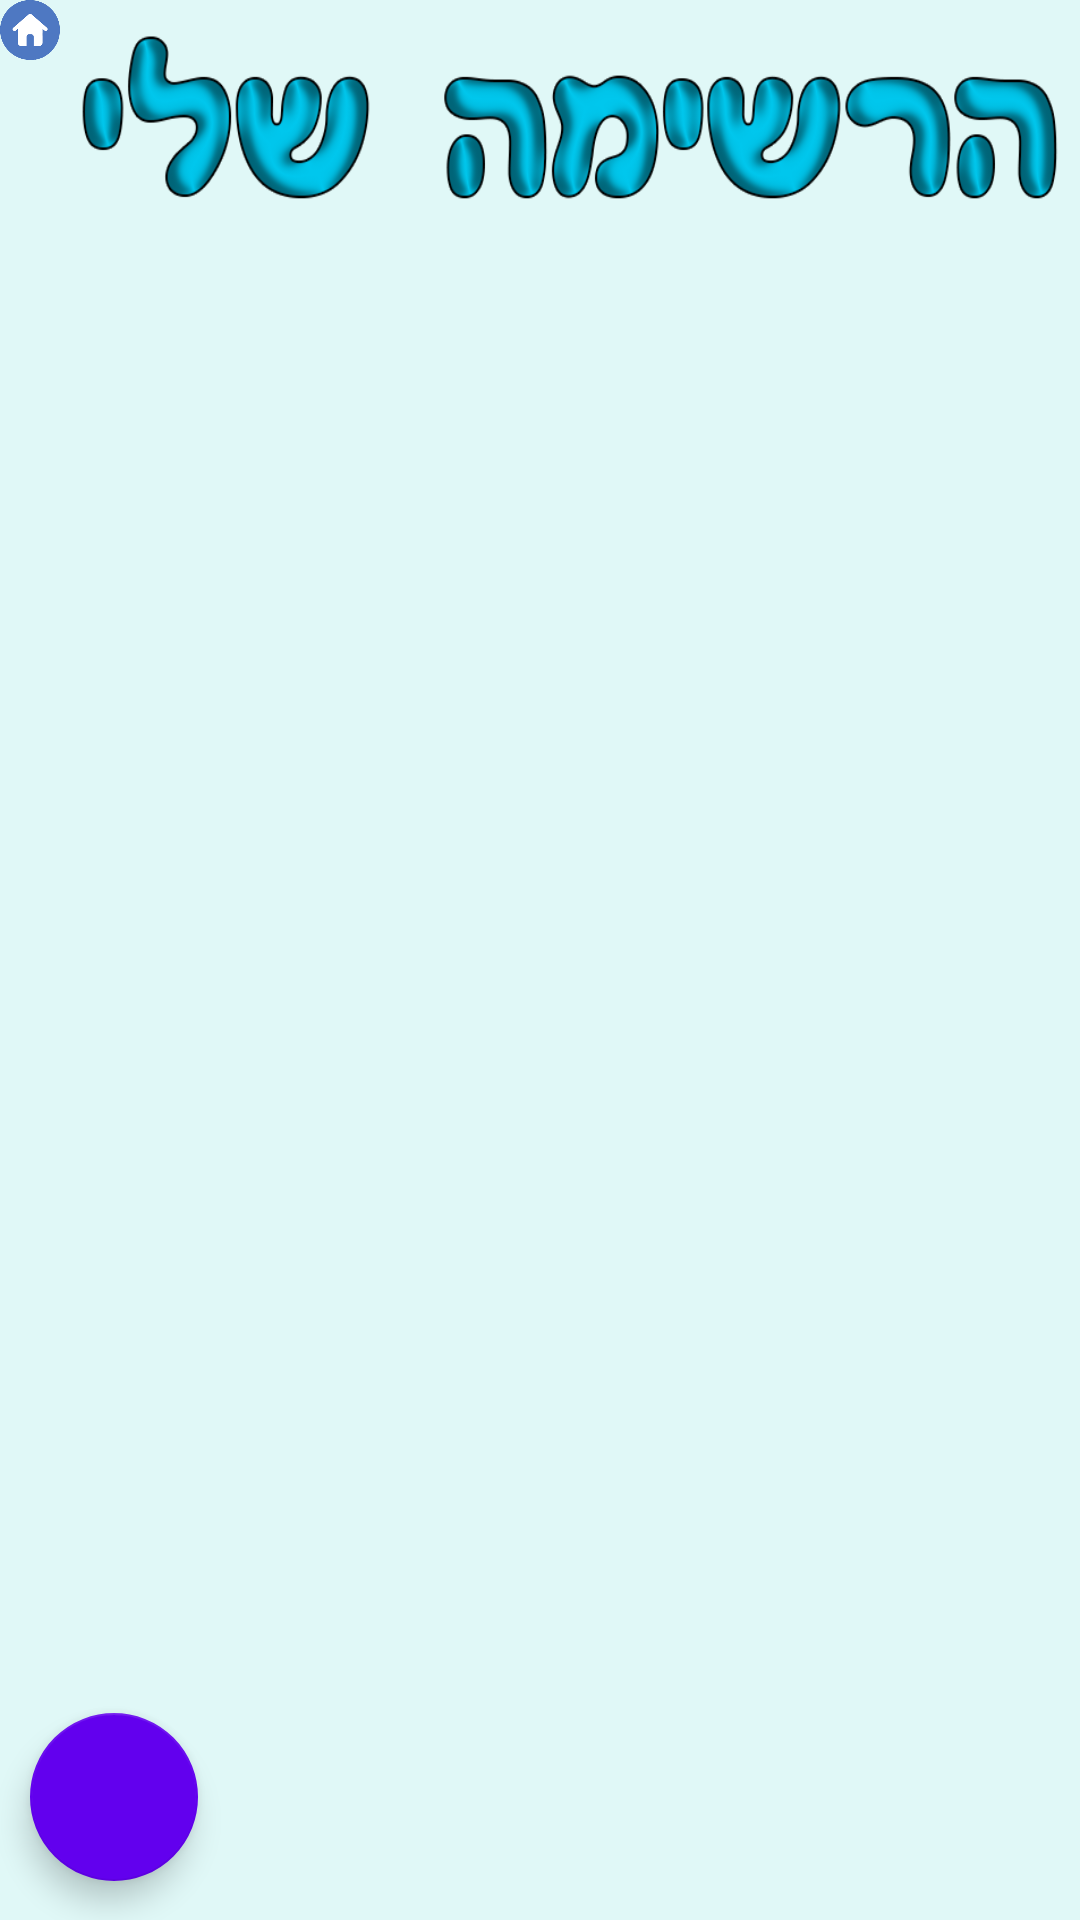

Named icons in this screenshot (1080×1920) and their bounding boxes, box=[x1, y1, x2, y2]:
gotomenu: box=[0, 0, 60, 60]
